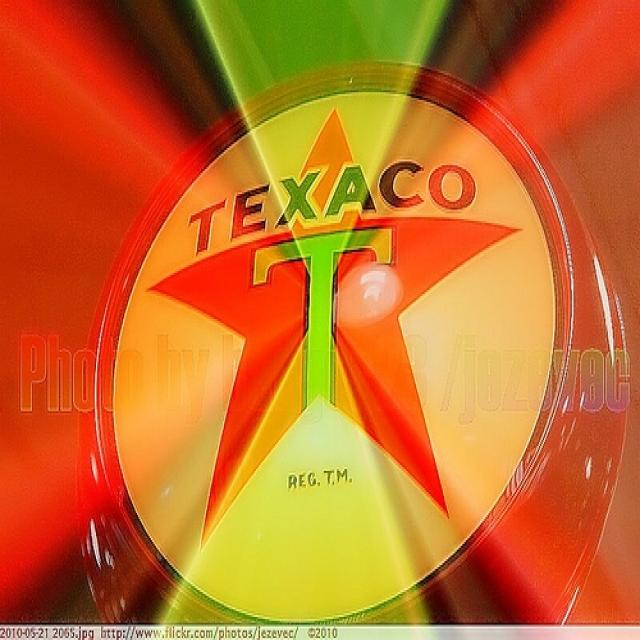texaco: (110, 88, 558, 624)
